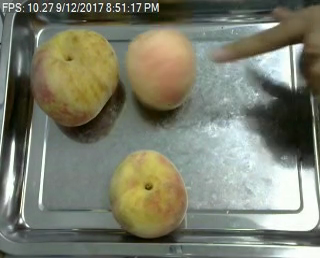Peach: (30, 28, 120, 126), (108, 150, 188, 238), (126, 27, 196, 110)
